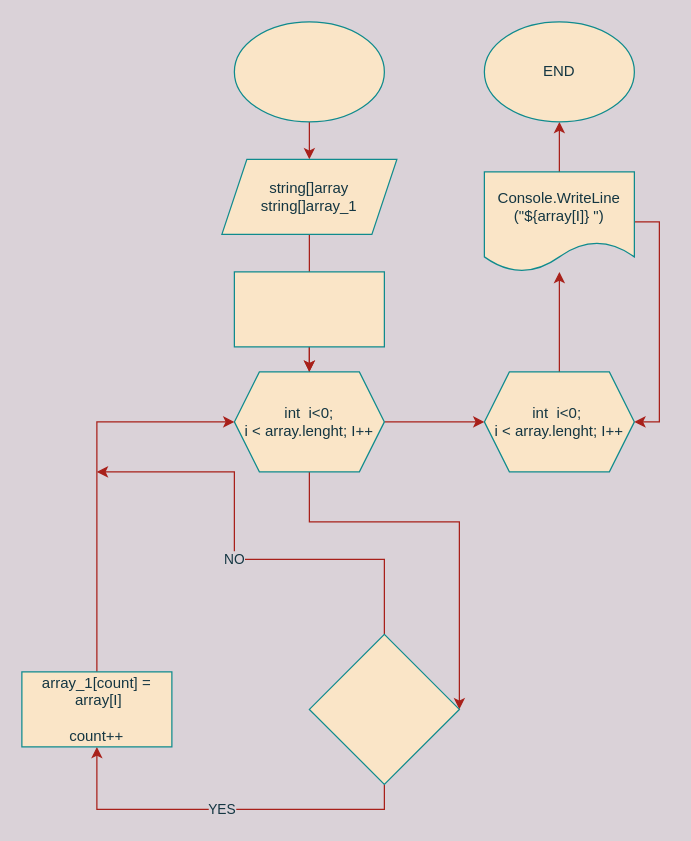
The diagram is 691 pixels wide and 841 high, and some of its shapes have lost their labels. Each missing label, with the centre of its shape:
array[I].lenght <=3: [383,708]
int count = 0: [308,309]
START: [308,71]
